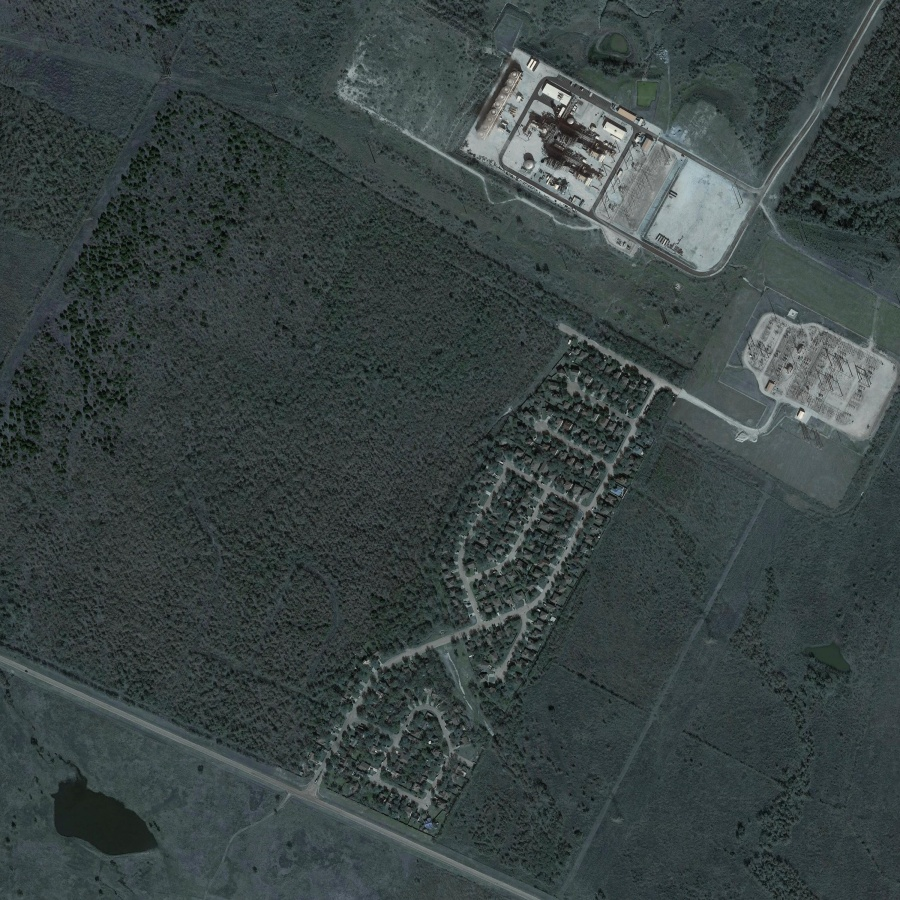PowerPlant: (466, 51, 676, 241), (740, 297, 886, 434)
